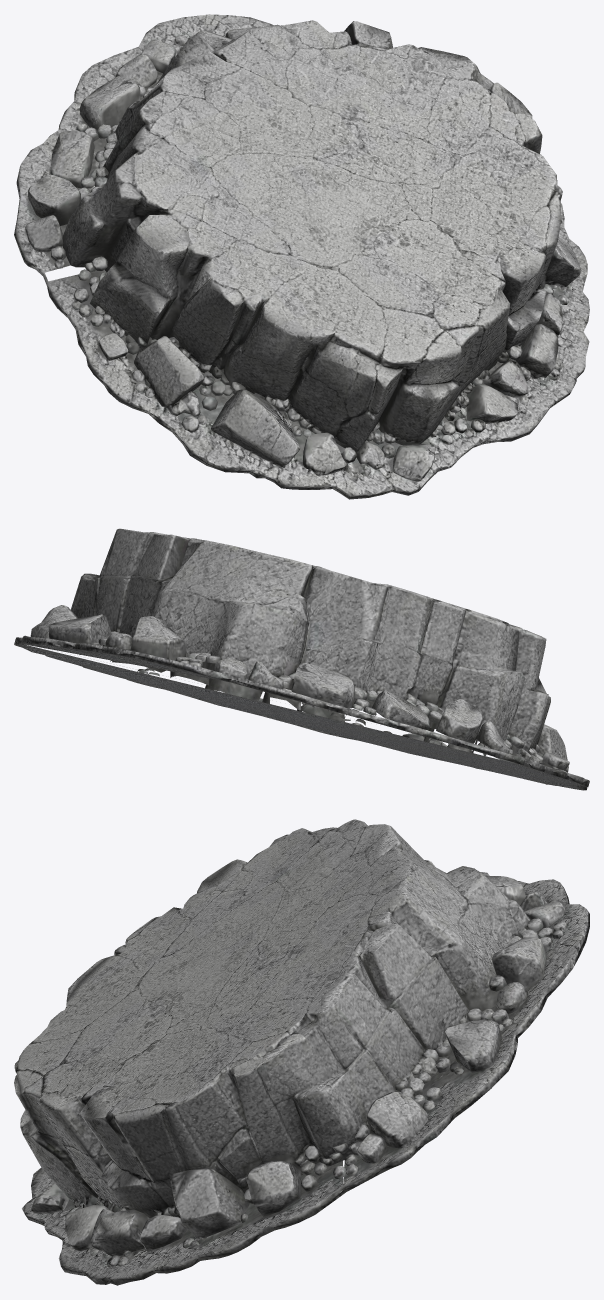
File: 07-porcelain-ash-base.glb
The picture shows the model from 3 angles, top to bottom: view 1: azimuth 30°, elevation 25°; view 2: azimuth 150°, elevation 25°; view 3: azimuth 270°, elevation 25°; orthographic projection. The views are drawn at different scales.
Visible parts, largest first — view 1: cd01dc15_2808_4ed2_b4f8_35af9306795b; view 2: cd01dc15_2808_4ed2_b4f8_35af9306795b; view 3: cd01dc15_2808_4ed2_b4f8_35af9306795b.
Boxes of the visible parts, <box> form: cd01dc15_2808_4ed2_b4f8_35af9306795b: <box>14,14,589,499</box>; cd01dc15_2808_4ed2_b4f8_35af9306795b: <box>14,528,589,790</box>; cd01dc15_2808_4ed2_b4f8_35af9306795b: <box>14,819,589,1285</box>.
Size of the model in its own units: 0.9995 by 0.6333 by 0.9106.
Materials: 1 (1 with a texture image).
